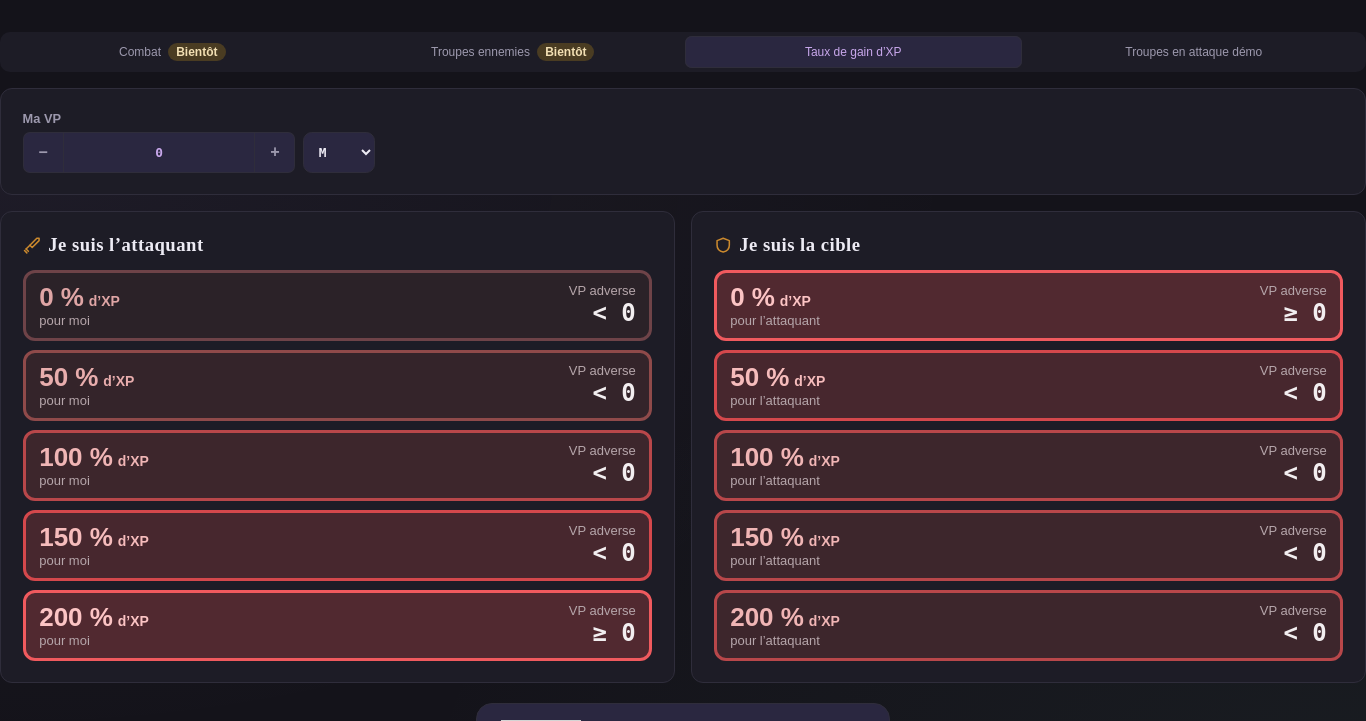
Test: Bloc 114/C: Troupes en attaque démo in tiles › gives the wall and the troops one tile each, the troops highlighted
This screenshot has width=1366, height=721.
Click the tab "Troupes en attaque démo" at (1194, 52), box [1026,36,1362,68]
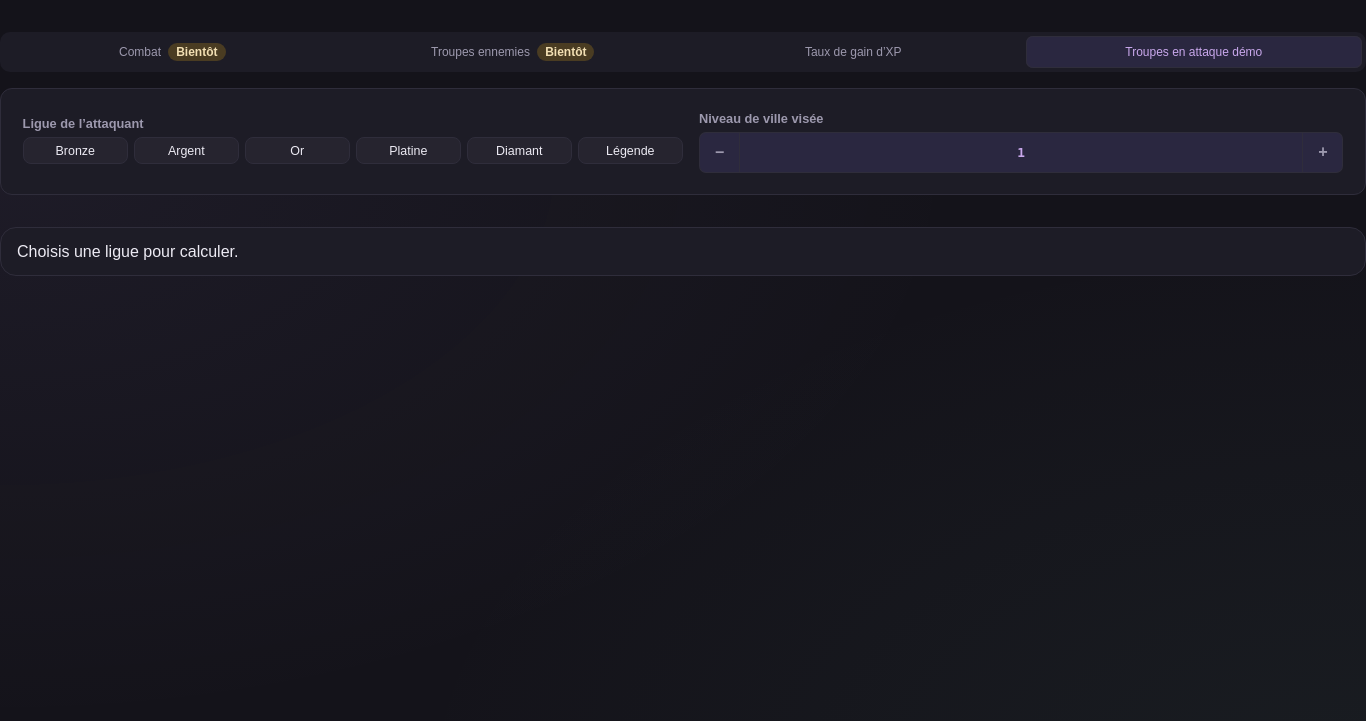
Check: the text "Choisis une ligue pour calculer." is shown, box [0,227,1365,276]
Click the button "Diamant" at (519, 151), box [467,137,572,164]
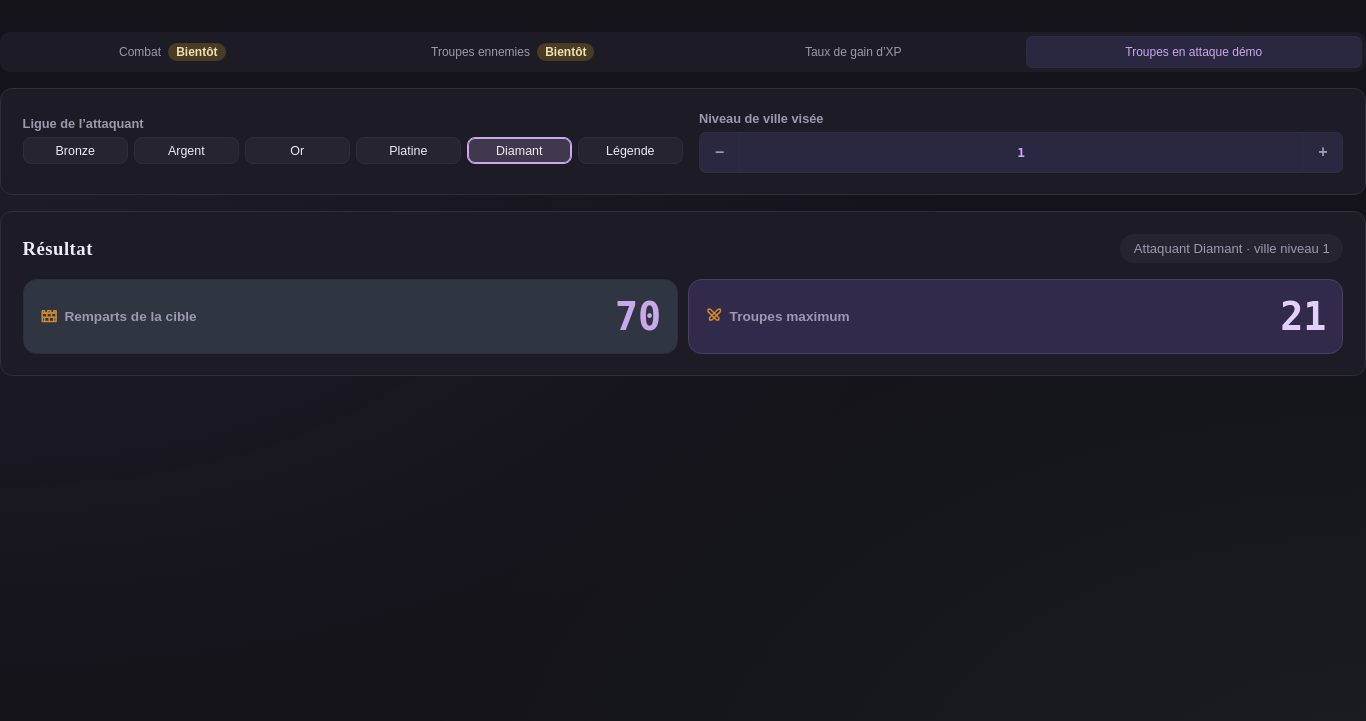
Replace the text in the number field named "Niveau de ville visée" with "135" at (1021, 152), box [739,132,1303,173]
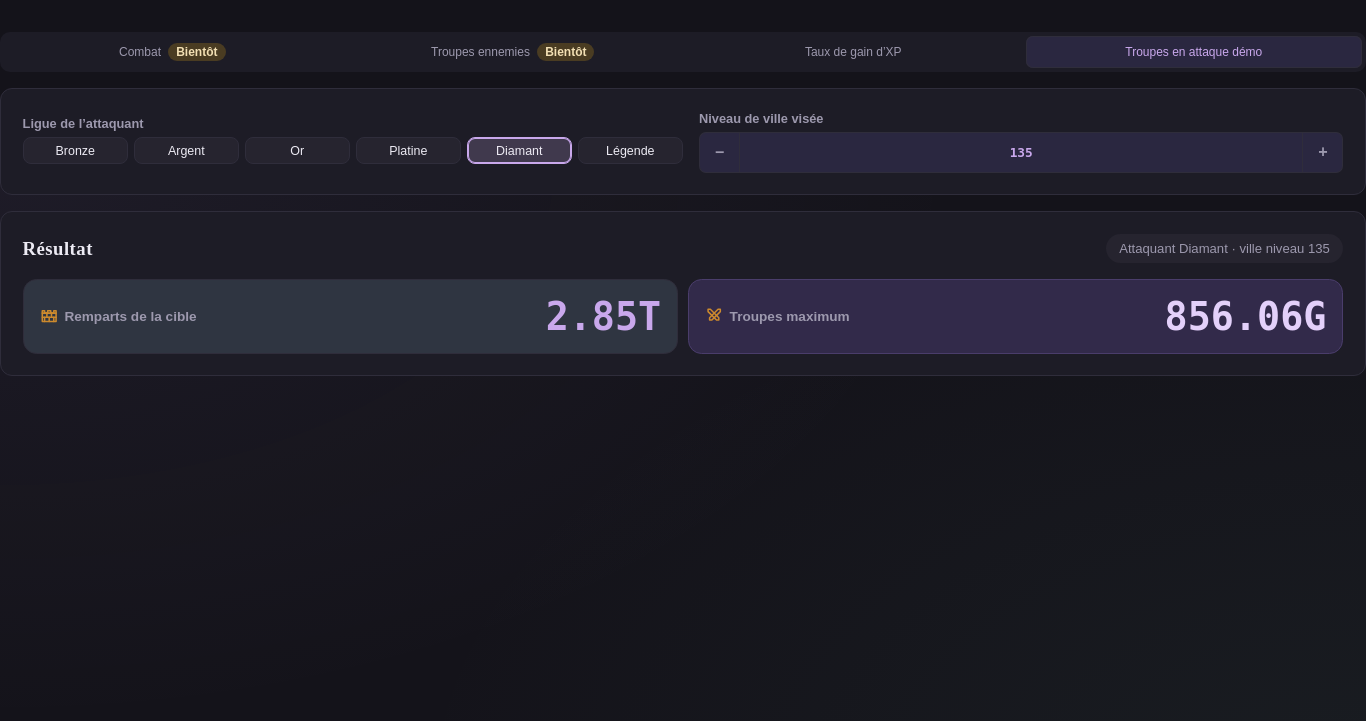
Check: the element with test id "demo-troops" does not show "%", box [0,211,1365,376]
Check: the text with test id "demo-wall" reads "2.85T", box [546,294,661,339]
Check: the text with test id "demo-troops" reads "856.06G", box [1165,294,1326,339]
